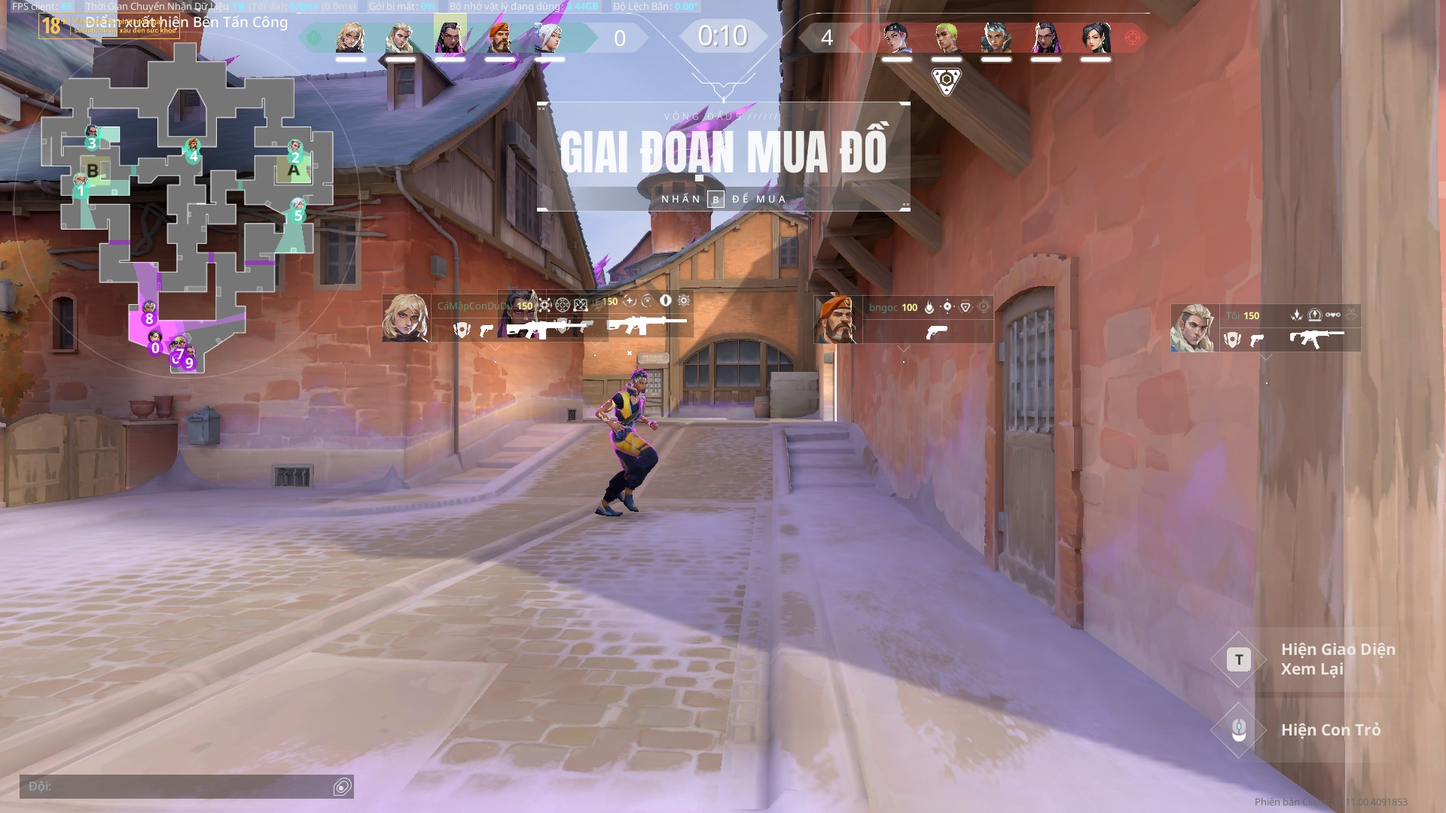body: (614, 387, 644, 424)
head: (631, 371, 646, 391)
